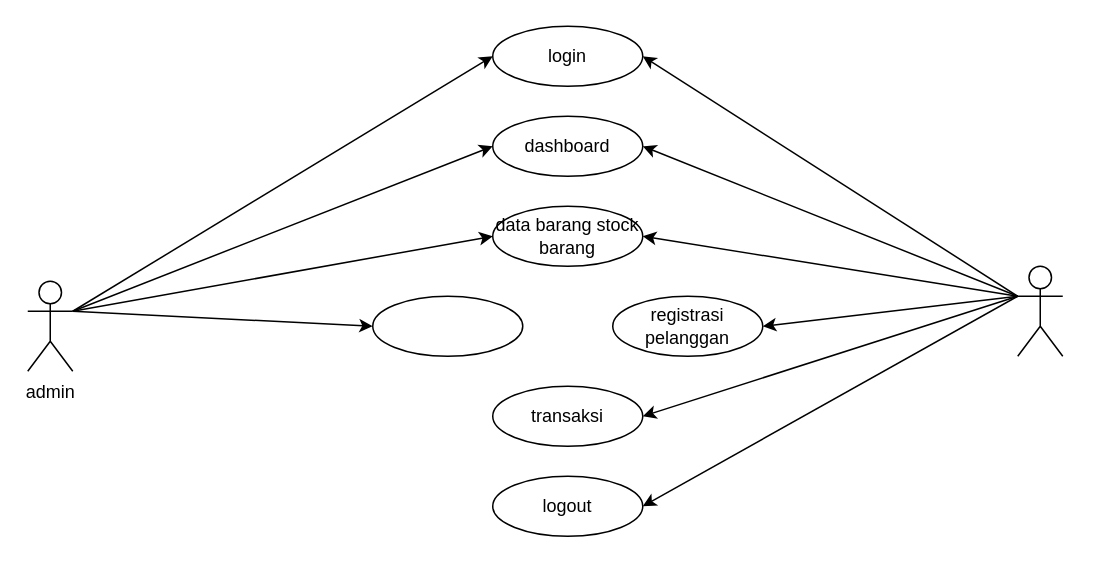
Image size: 1098x563. Some labels were removed from this diagram. The shapes that lost their labels are listed below. From the top down, each one's centre as x and y in pixels, then its label:
point (447, 325): registrasi petugas
point (1039, 310): petugas
